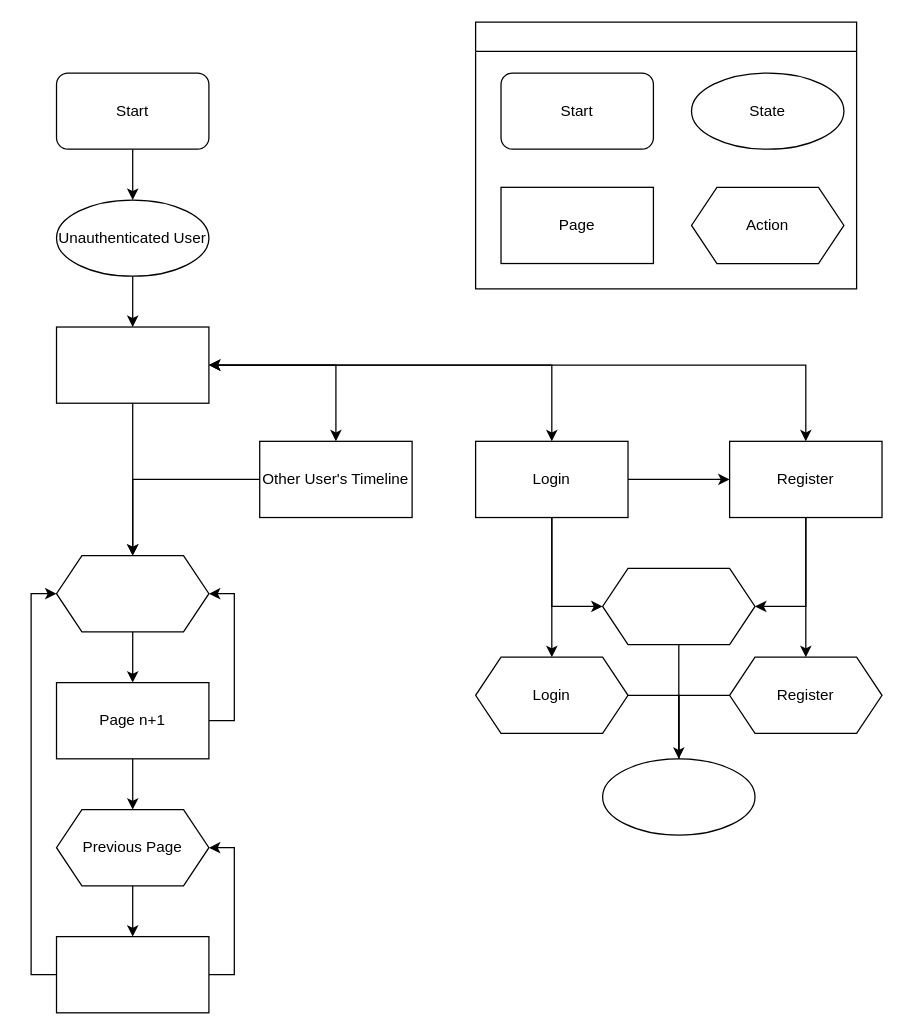
Some shapes in this 904 by 1035 pixel diagram are drawn without their labels. The centre of each missing label's shape, as x and y in pixels:
Authenticated User: point (678, 796)
Github: point (678, 606)
Legend: point (665, 155)
Next Page: point (132, 593)
Page n-1: point (132, 974)
Public Timeline: point (132, 364)
